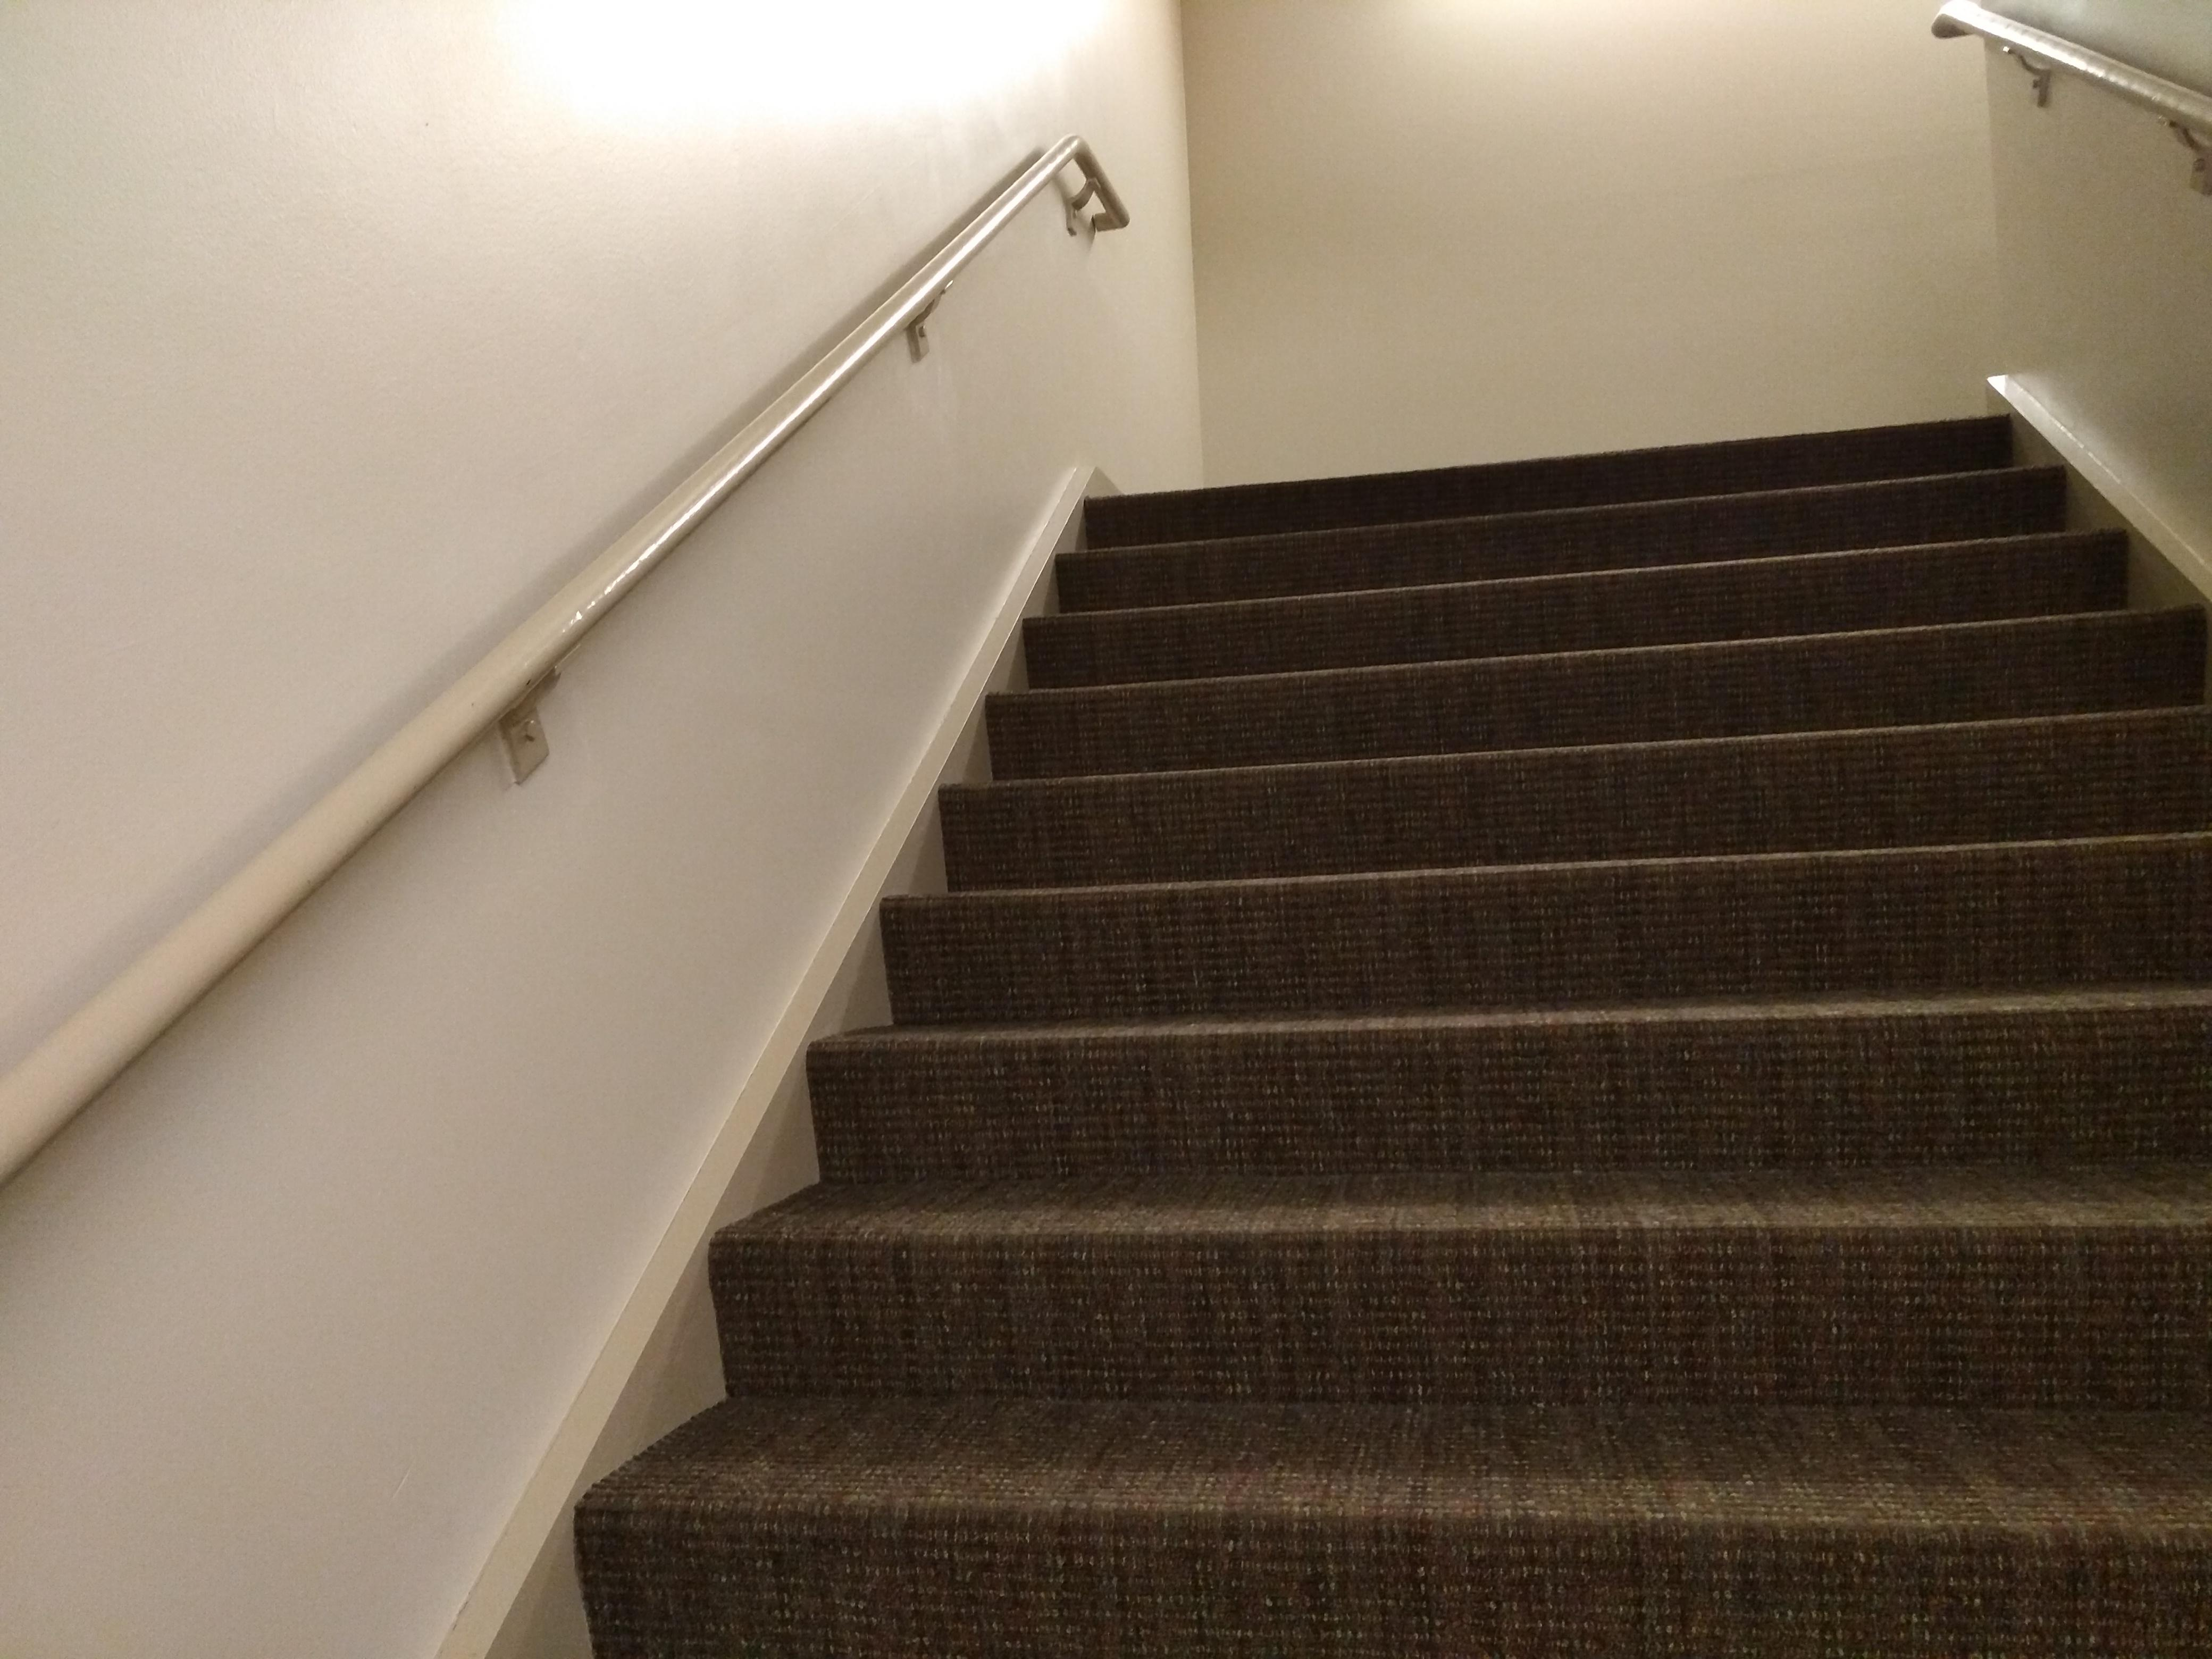stairs_up: (517, 385, 2212, 1628)
